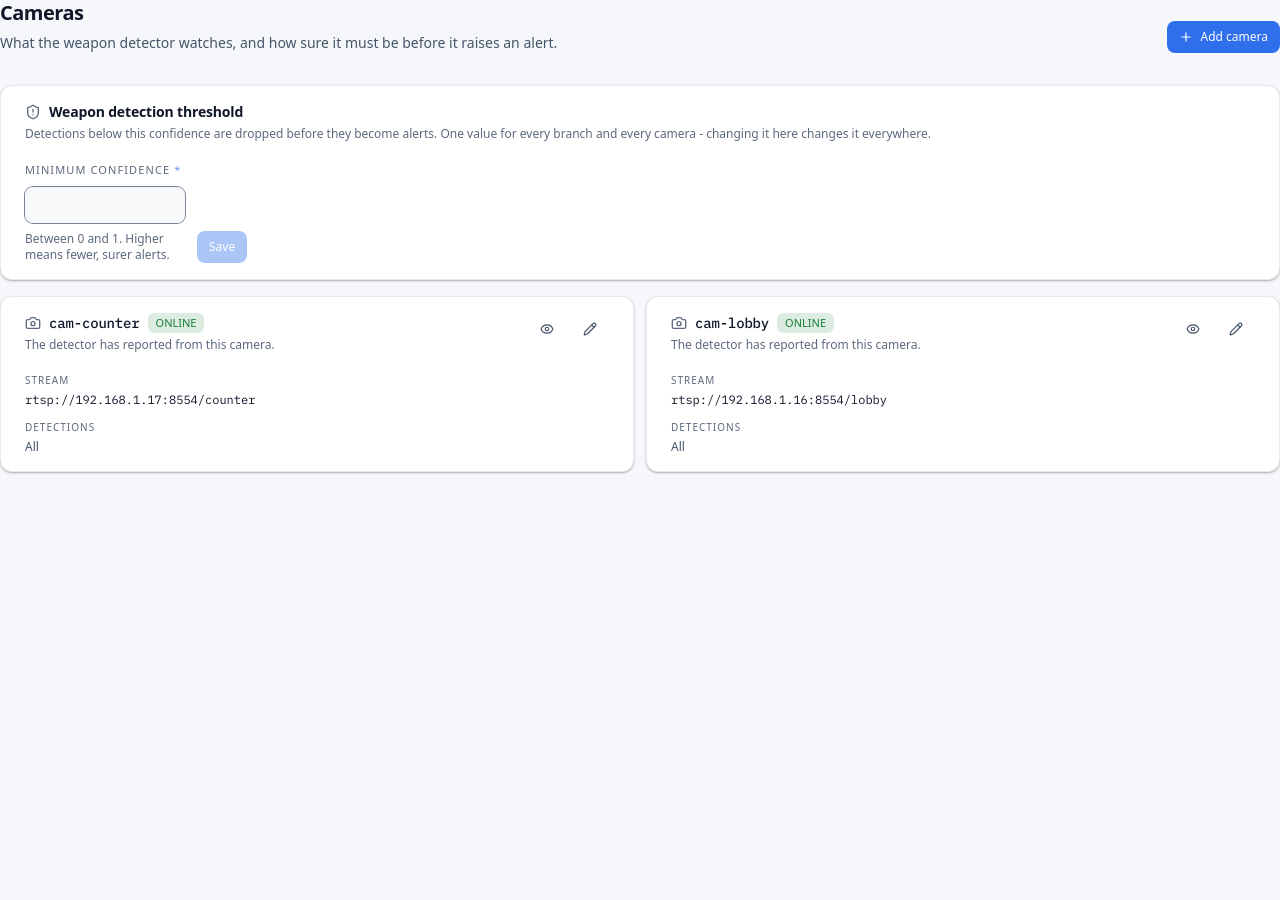
Test case: Cameras › adds a camera and it appears in the list, OFFLINE until the detector reports
Expected: the heading "cam-lobby" is shown, [695,313,769,333]
Click the button "Add camera" at [1223, 37], box [1166,21,1279,53]
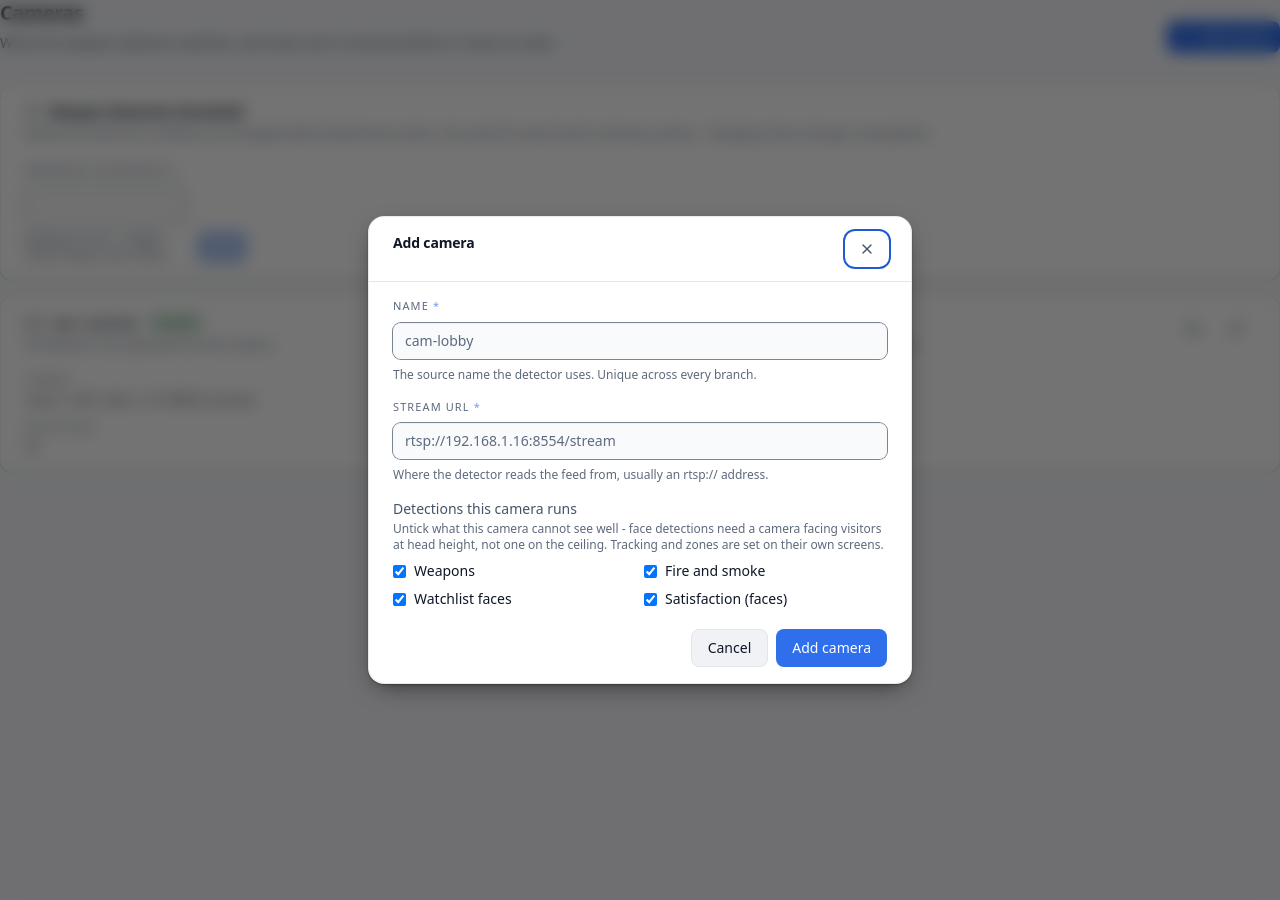
Type "cam-vault" into the field labelled "Name*" at [640, 340], box [393,322,887,358]
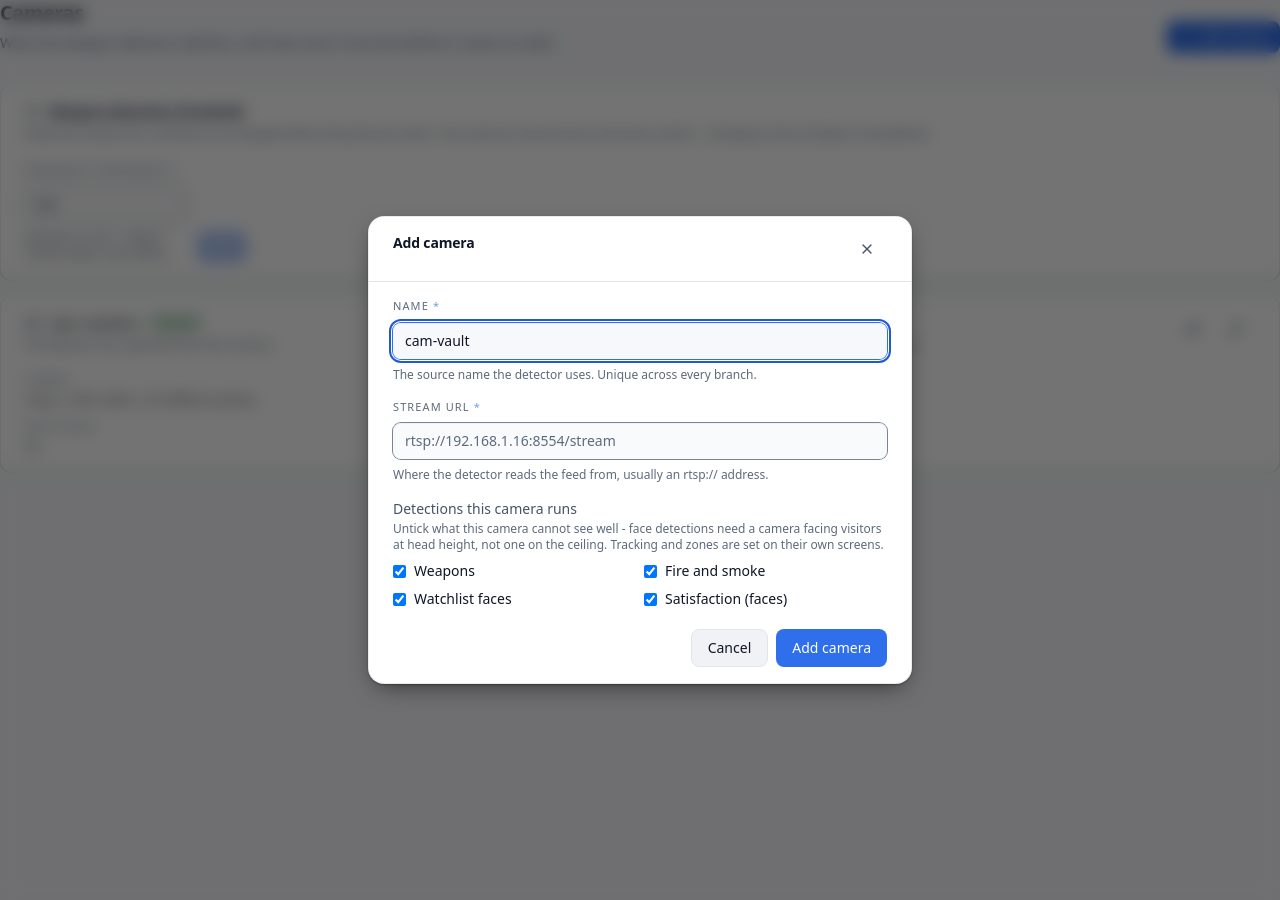
Type "rtsp://192.168.1.20:8554/vault" into the field labelled "Stream URL*" at [640, 441], box [393,423,887,459]
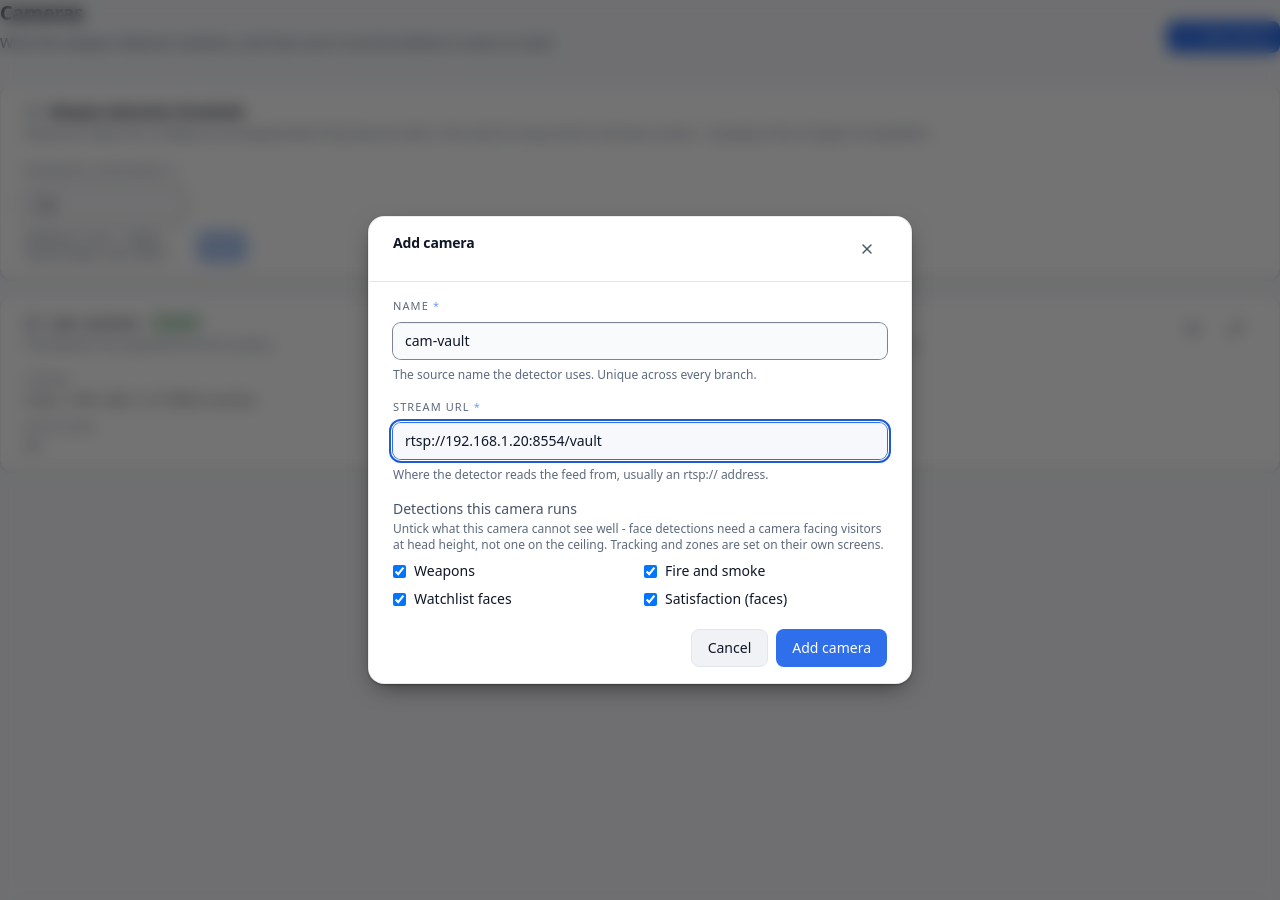
Click the button "Add camera" at [832, 648], box [776,629,887,667]
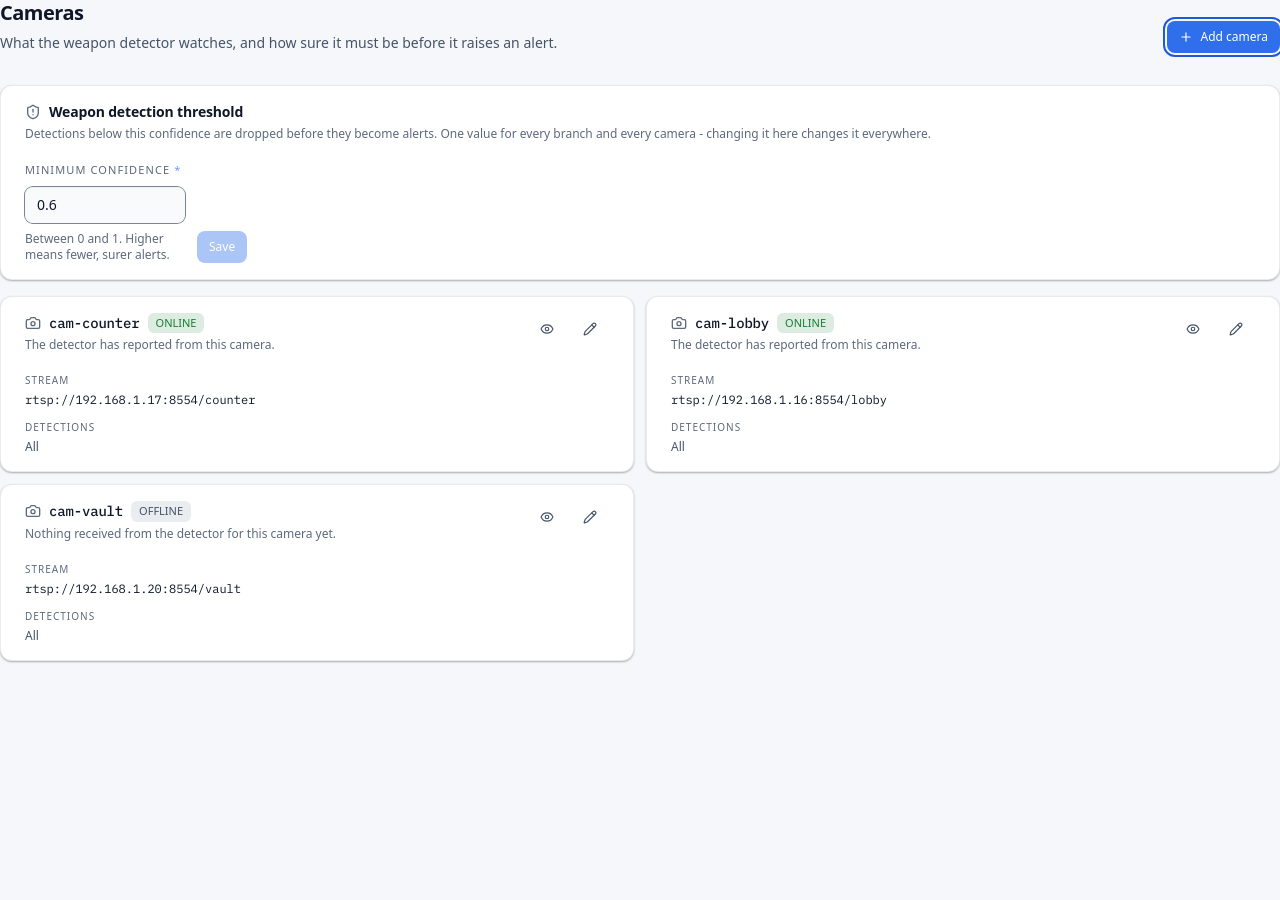
Expected: the heading "cam-vault" is shown, [49,501,123,521]
Expected: the text "OFFLINE" is shown, [131,501,191,522]
Expected: the text "rtsp://192.168.1.20:8554/vault" is shown, [25,580,241,596]
